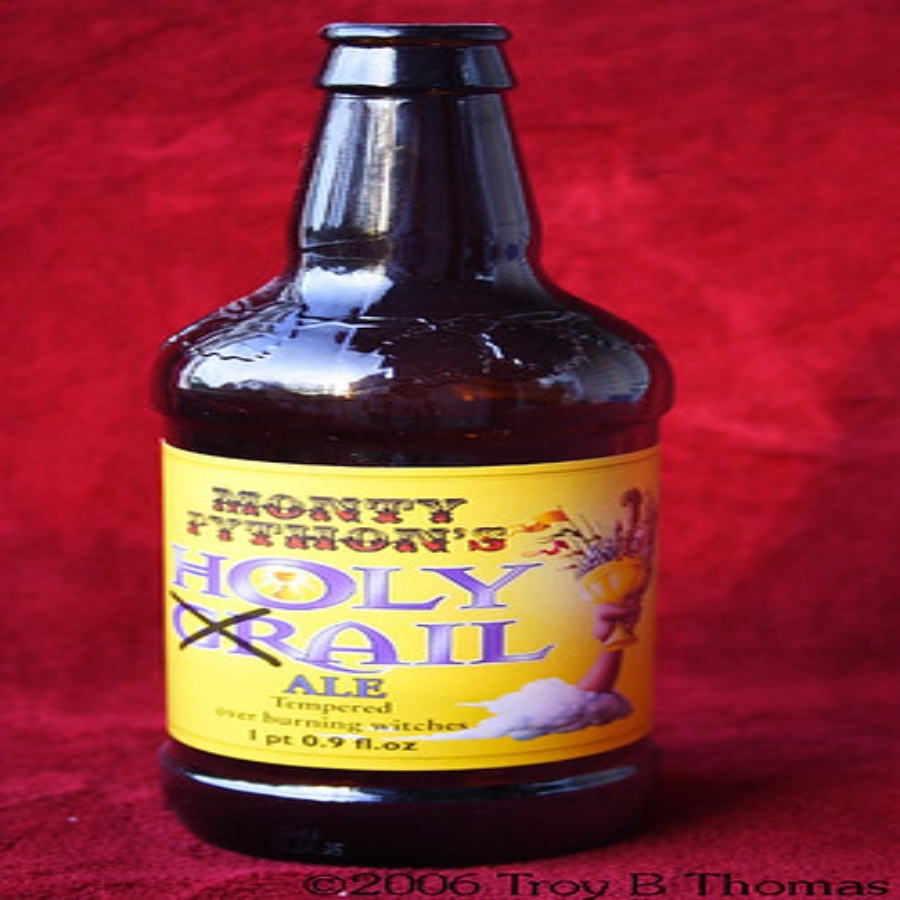beer: (182, 13, 660, 840)
